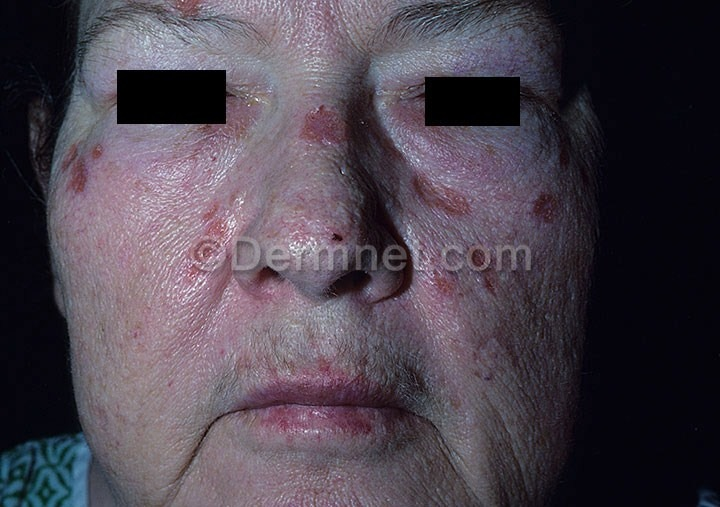Melasma: (197, 0, 576, 186), (201, 319, 453, 479), (282, 0, 369, 242), (157, 42, 387, 121), (466, 323, 528, 402), (50, 140, 112, 210), (423, 272, 527, 311)
